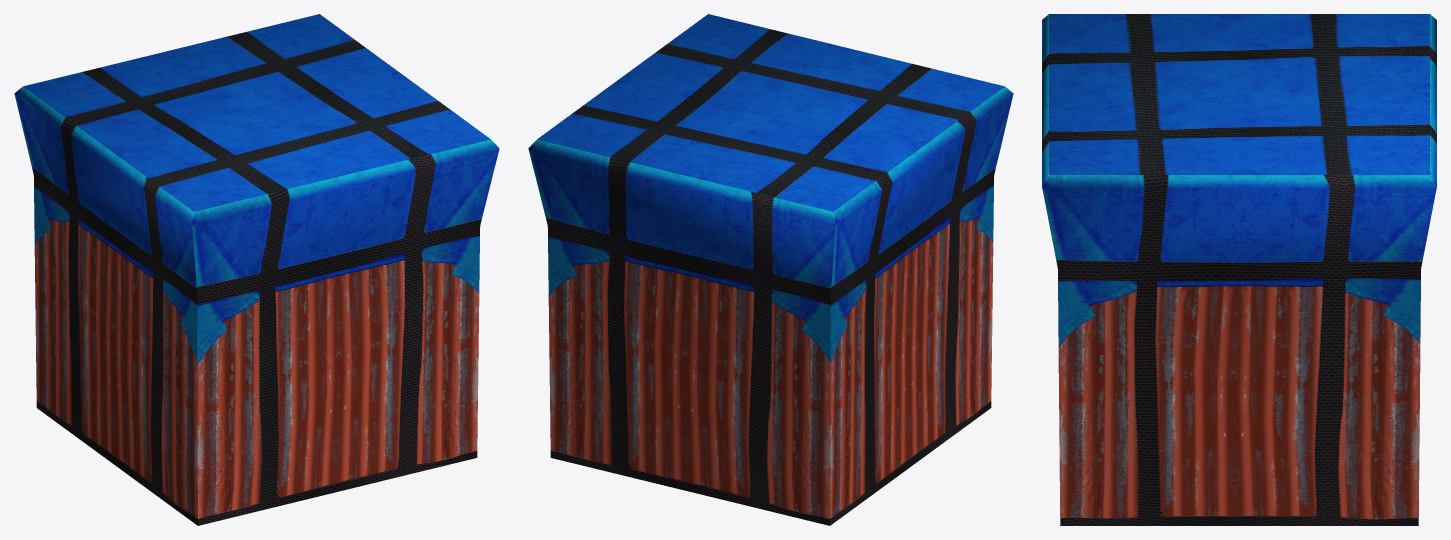
File: pubg_box.glb
3 views of the same model, side by side, from view 1: azimuth 30°, elevation 25°; view 2: azimuth 150°, elevation 25°; view 3: azimuth 270°, elevation 25° (orthographic). The views are drawn at different scales.
Visible parts, largest first — view 1: Box001; view 2: Box001; view 3: Box001.
Part boxes in pixels (left/top/right/bottom): Box001: left=14, top=14, right=499, bottom=525; Box001: left=528, top=14, right=1013, bottom=525; Box001: left=1042, top=14, right=1436, bottom=525.
Bounding box in the file's own units: 50 × 49.69 × 50.
Materials: 1 (1 with a texture image).
